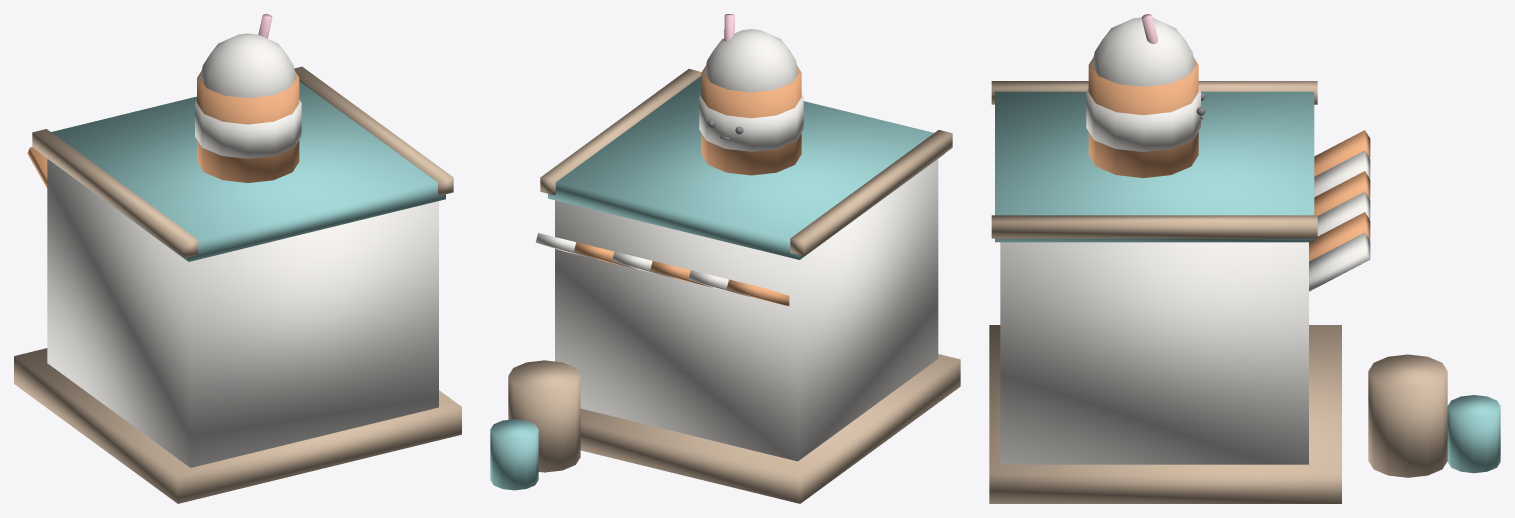
File: thai_tea_shop_lv3.glb
3 renders of one model, left to right at view 1: azimuth 30°, elevation 25°; view 2: azimuth 150°, elevation 25°; view 3: azimuth 270°, elevation 25°, orthographic. The views are drawn at different scales.
Parts seen in each view (by area): view 1: shop_base, shop_roof, shop_deck, roof_cup, roof_tea_top, roof_border_l, roof_cup_sleeve, roof_border_r; view 2: shop_base, shop_roof, shop_deck, outdoor_table, roof_cup, roof_tea_top, roof_border_l, roof_cup_sleeve, outdoor_stool, roof_border_r, awn_strip_0, awn_strip_3 (+1 smaller); view 3: shop_base, shop_roof, shop_deck, outdoor_table, roof_border_r, roof_cup, roof_tea_top, roof_cup_sleeve, outdoor_stool, roof_border_l, awn_strip_5, awn_strip_4 (+4 smaller).
Part boxes in pixels (left/top/right/bottom): shop_base: left=47, top=159, right=438, bottom=467; shop_roof: left=40, top=81, right=445, bottom=261; shop_deck: left=14, top=348, right=461, bottom=503; roof_cup: left=197, top=71, right=299, bottom=182; roof_tea_top: left=200, top=33, right=296, bottom=98; roof_border_l: left=32, top=129, right=198, bottom=257; roof_cup_sleeve: left=195, top=100, right=301, bottom=158; roof_border_r: left=294, top=66, right=453, bottom=195; shop_base: left=555, top=159, right=938, bottom=461; shop_roof: left=548, top=76, right=944, bottom=259; shop_deck: left=580, top=354, right=960, bottom=503; outdoor_table: left=508, top=360, right=580, bottom=472; roof_cup: left=701, top=66, right=801, bottom=175; roof_tea_top: left=704, top=29, right=798, bottom=92; roof_border_l: left=790, top=130, right=952, bottom=255; roof_cup_sleeve: left=699, top=94, right=803, bottom=151; outdoor_stool: left=490, top=419, right=538, bottom=490; roof_border_r: left=540, top=69, right=701, bottom=195; awn_strip_0: left=726, top=279, right=789, bottom=306; awn_strip_3: left=612, top=251, right=674, bottom=278; shop_base: left=1000, top=242, right=1308, bottom=464; shop_roof: left=995, top=91, right=1314, bottom=242; shop_deck: left=989, top=325, right=1341, bottom=503; outdoor_table: left=1368, top=354, right=1447, bottom=477; roof_border_r: left=991, top=215, right=1317, bottom=238; roof_cup: left=1088, top=57, right=1198, bottom=178; roof_tea_top: left=1092, top=17, right=1195, bottom=86; roof_cup_sleeve: left=1086, top=89, right=1200, bottom=151; outdoor_stool: left=1447, top=395, right=1500, bottom=473; roof_border_l: left=991, top=81, right=1317, bottom=104; awn_strip_5: left=1309, top=232, right=1370, bottom=291; awn_strip_4: left=1309, top=212, right=1370, bottom=261.
Bounding box in the file's own units: 1.6 × 2.13 × 2.32.
